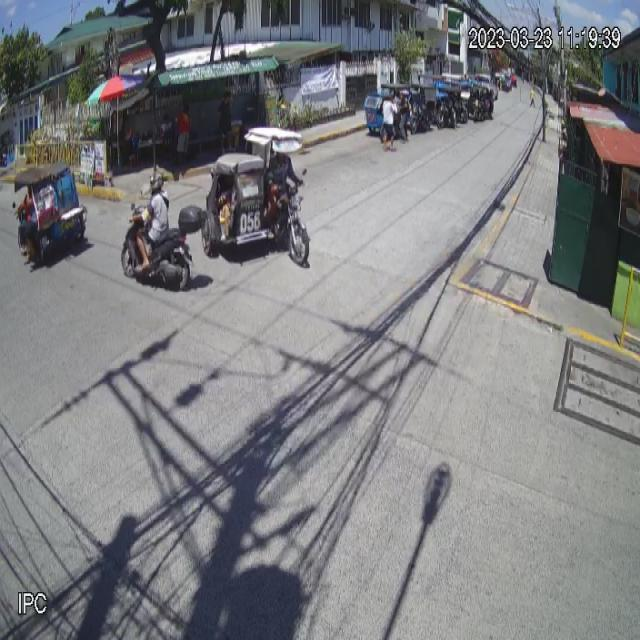Motorcycle: (120, 201, 206, 293)
Tricycle: (201, 125, 309, 267), (12, 161, 88, 270)
